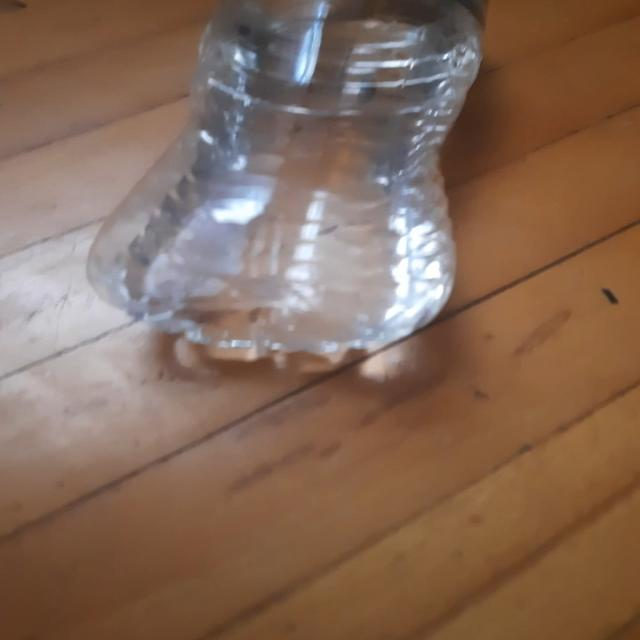Plastic: (85, 0, 486, 374)
